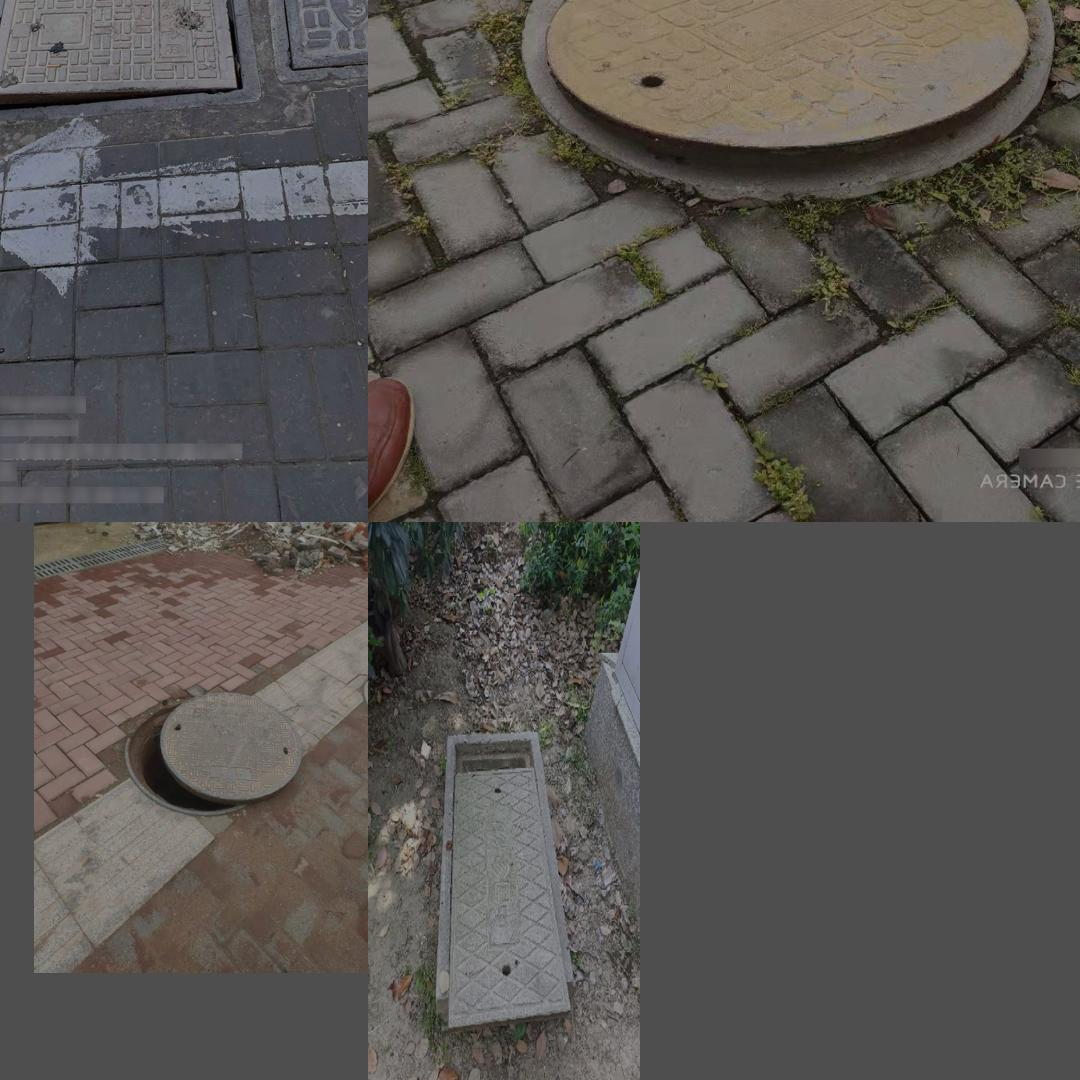good: (249, 0, 363, 85)
uncovered: (518, 0, 1056, 202), (435, 727, 575, 1027), (0, 0, 262, 117), (123, 691, 302, 816)
